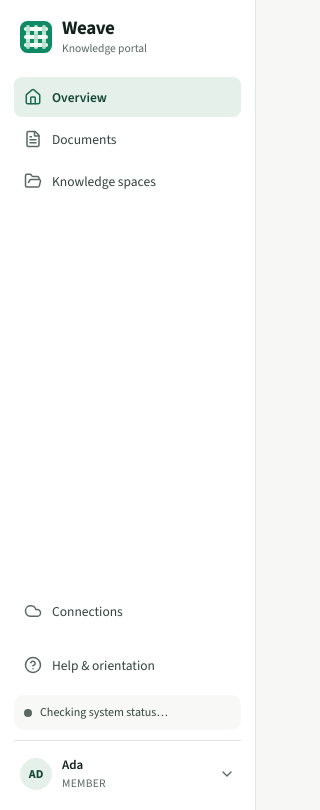
Test: renders English labels when the locale is English
Expected: the link "Overview" is shown, [14,77,241,117]
Expected: the link "Knowledge spaces" is shown, [24,172,156,190]
What coordinates should you click on to do the following:
click the button "AD Ada Member"
I would click on:
 (128, 774)
Its box is [14,751,241,796].
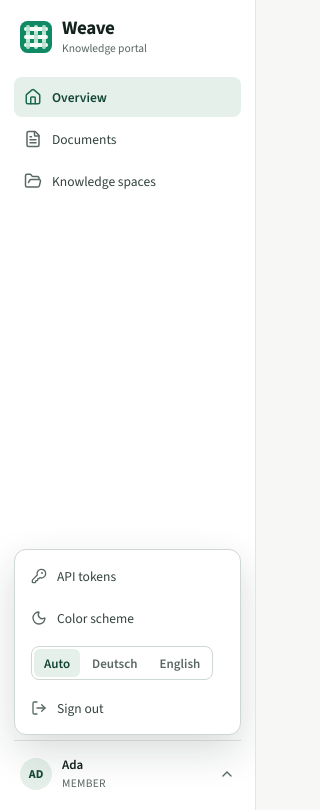
Expected: the button "English" is shown, [149,649,210,677]
Expected: the menu item "API tokens" is shown, [31,567,116,585]
Expected: the menu item "Sign out" is shown, [21,688,234,728]
